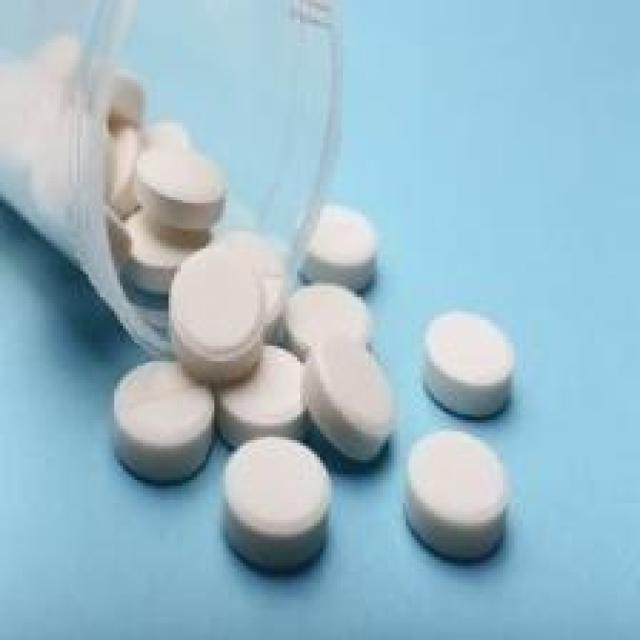Medicine: (0, 12, 538, 573)
